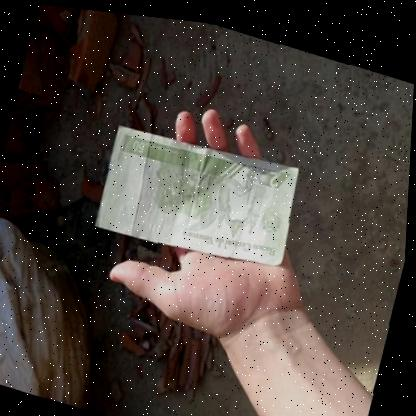fifty-back-vef: (93, 108, 308, 277)
